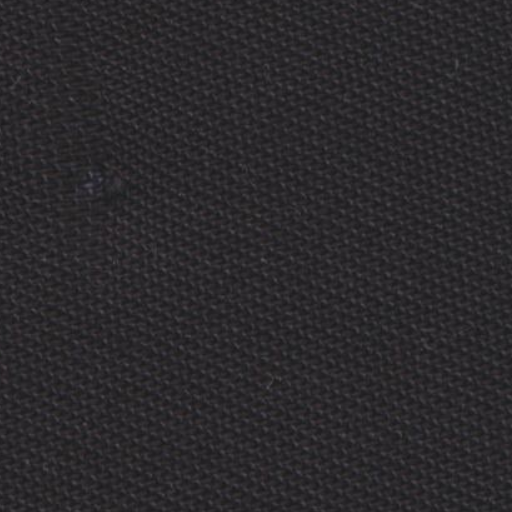PoDong: (56, 132, 134, 222)
